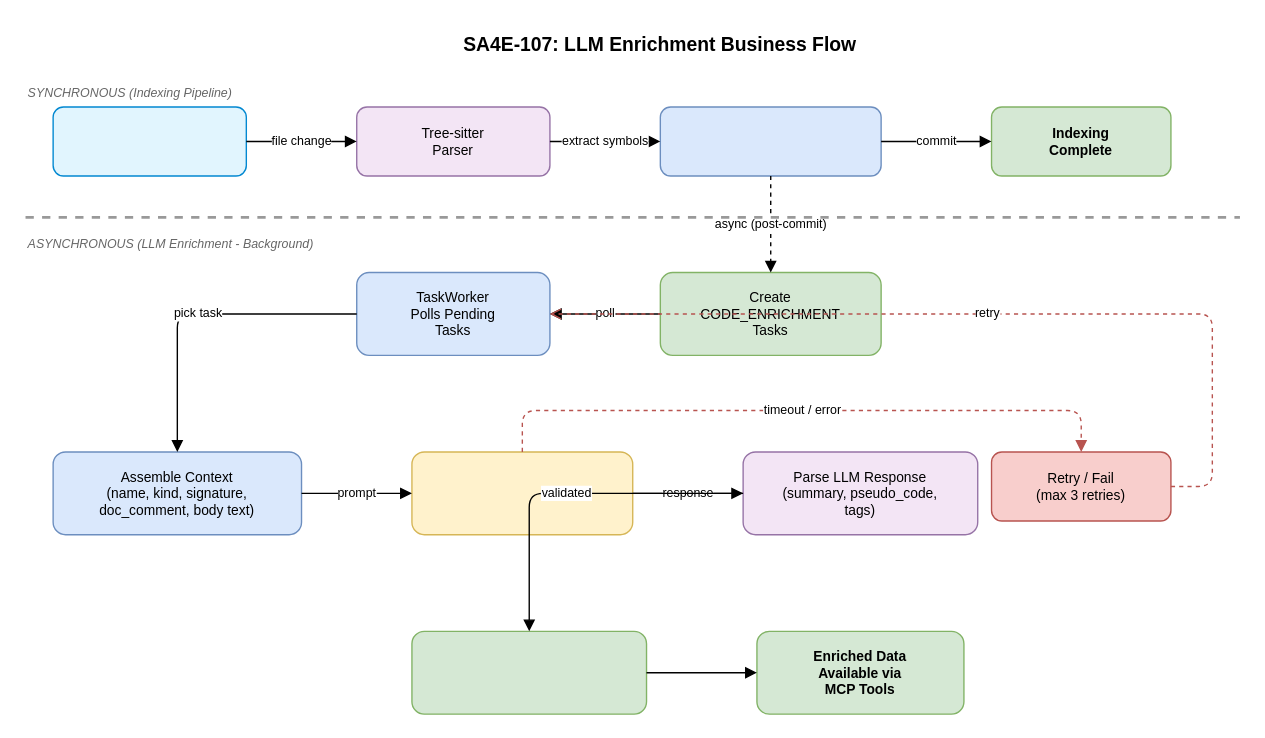
Image size: 1265x738. Some labels were removed from this diagram. Each missing label, with the centre of its shape:
"Call LLMService (Ollama / OpenAI)" goes at pixel 522 493.
"Developer Saves Code" goes at pixel 149 141.
"Store Symbols + body_embeddings" goes at pixel 770 141.
"Update symbols table (summary, pseudo_code, llm_tags)" goes at pixel 529 672.
